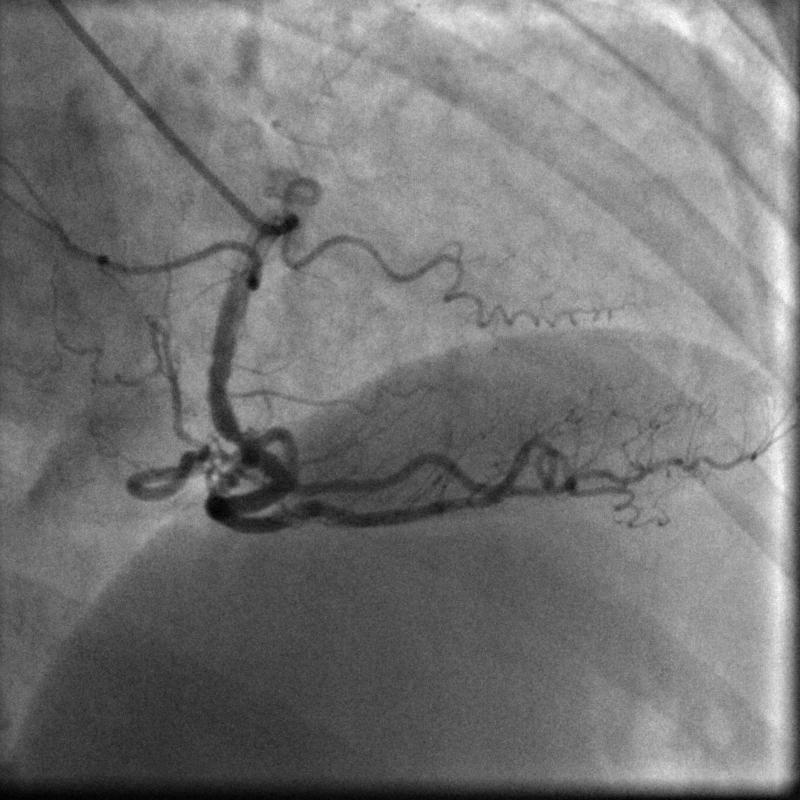Stenosis: (210, 420, 266, 456)
